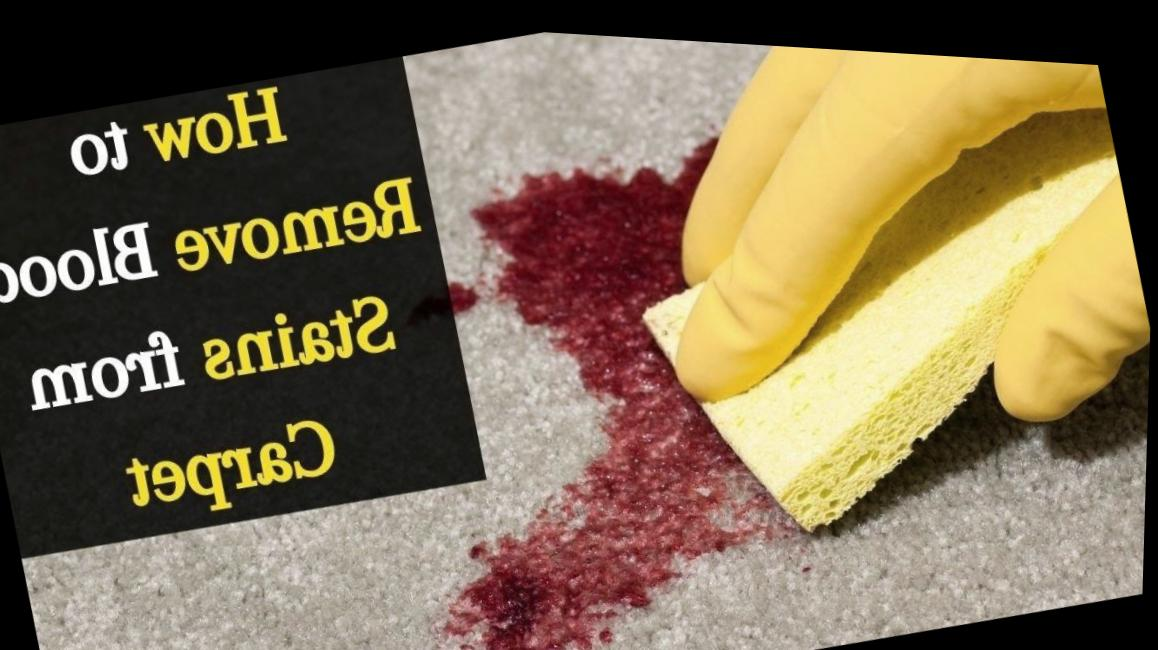Fire: (446, 127, 780, 650), (450, 274, 481, 308)
